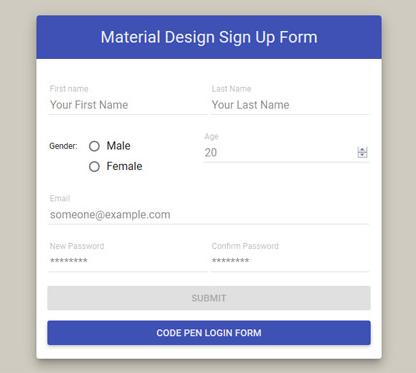button: (46, 285, 370, 311), (46, 320, 372, 345)
field: (47, 193, 370, 225), (45, 240, 208, 273), (212, 240, 370, 274), (46, 83, 207, 116), (210, 83, 370, 115)
